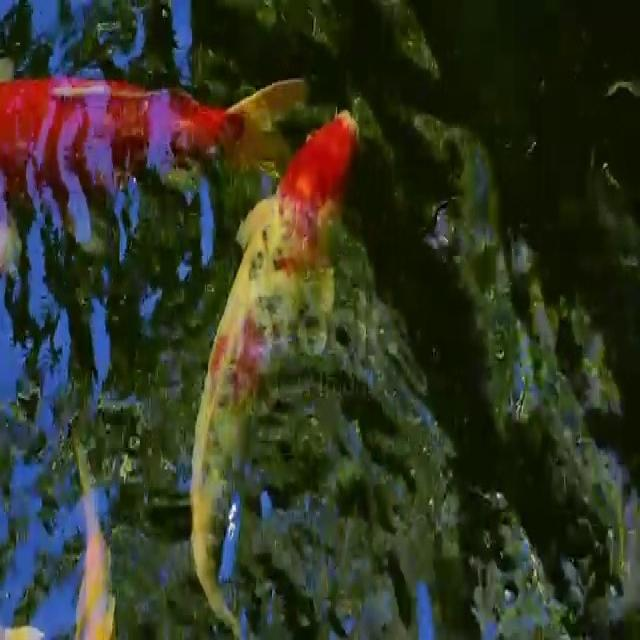fish: (175, 101, 371, 640), (0, 49, 295, 215), (49, 417, 131, 640)
